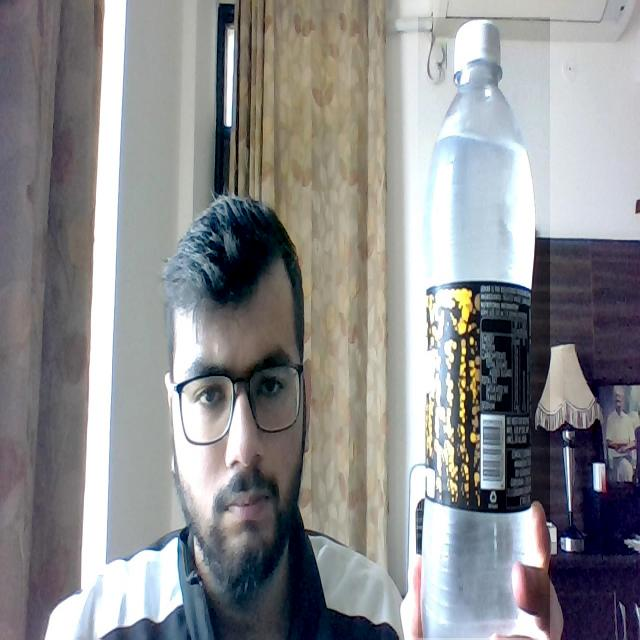full-bottle: (418, 17, 550, 638)
